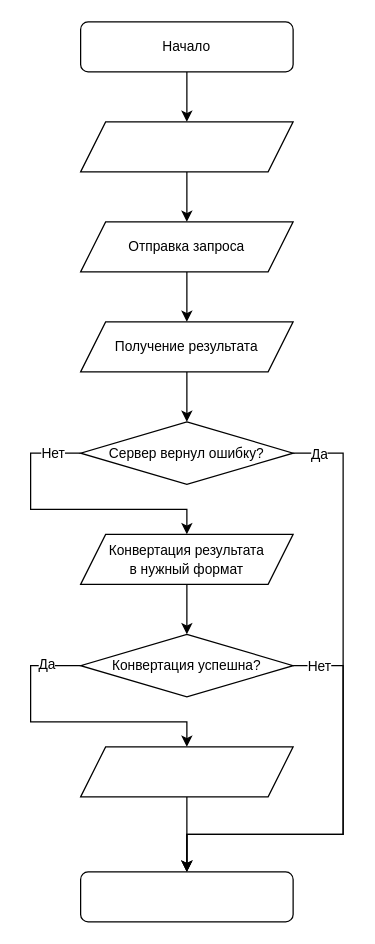
Image size: 375x944. Some labels were removed from this diagram. The centre of each missing label's shape, as x and y in pixels:
Возвращаем результат функции: point (186, 771)
Конец: point (186, 896)
Получение данных запроса: point (186, 146)
